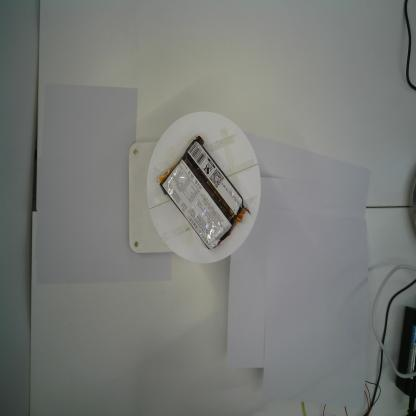Dessert: (155, 136, 251, 256)
